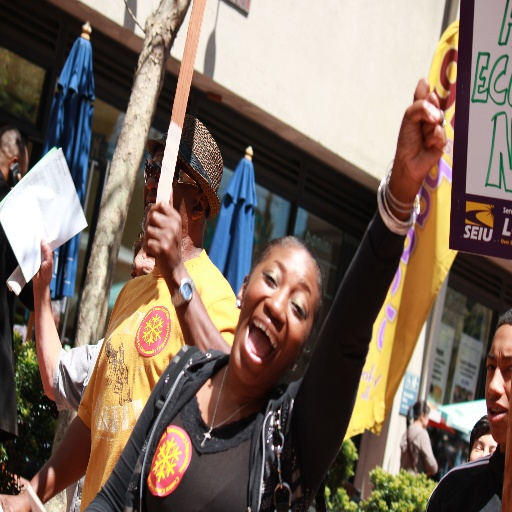hand: (396, 75, 448, 189), (136, 191, 182, 277), (32, 238, 54, 287), (0, 490, 28, 511)
